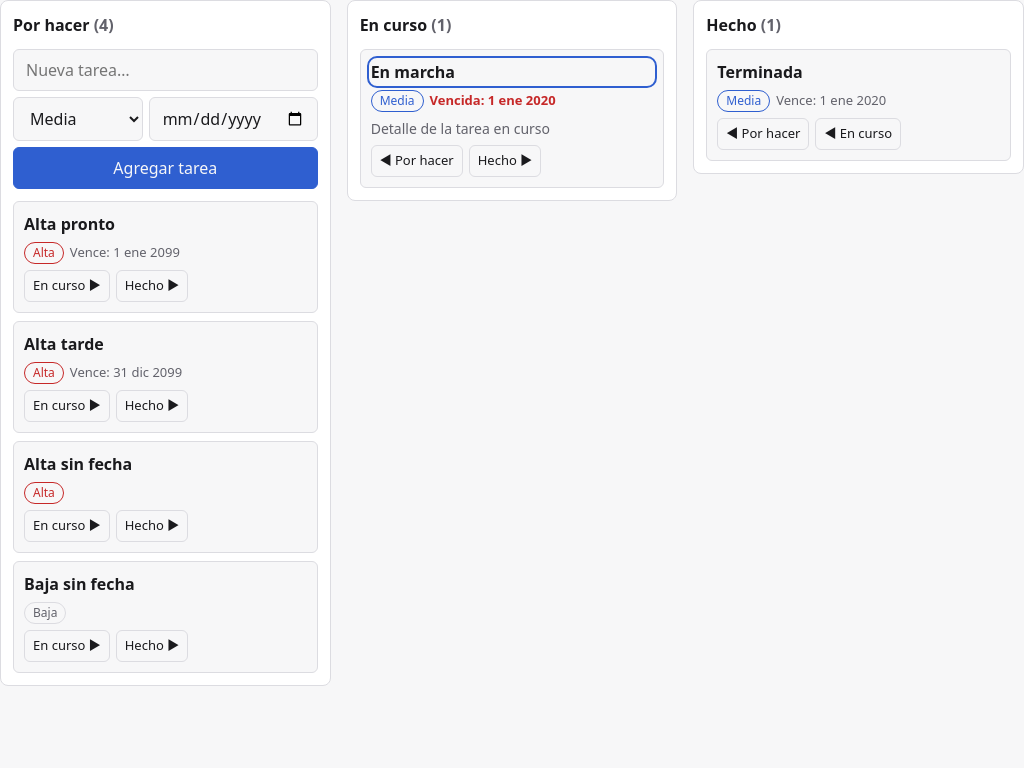
Scenario: TaskBoard editor › returns focus to the card that opened the dialog
Click the button "En marcha": (413, 72) [371,60,653,84]
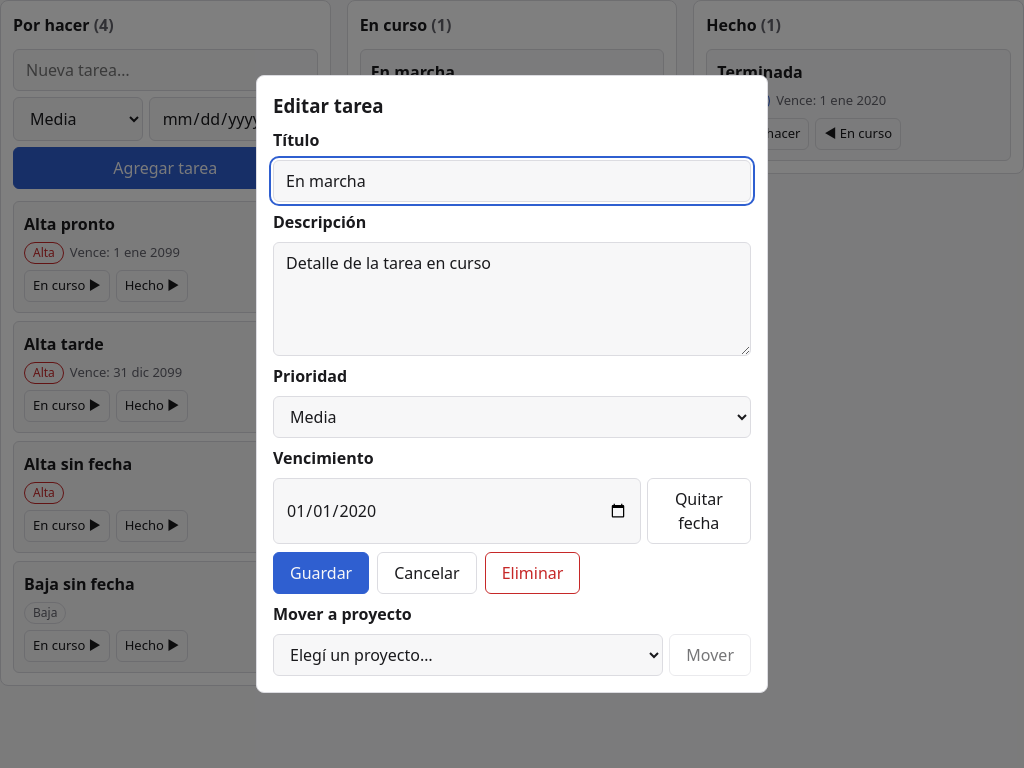
Click the button "Cancelar": (427, 573) [377,552,477,594]
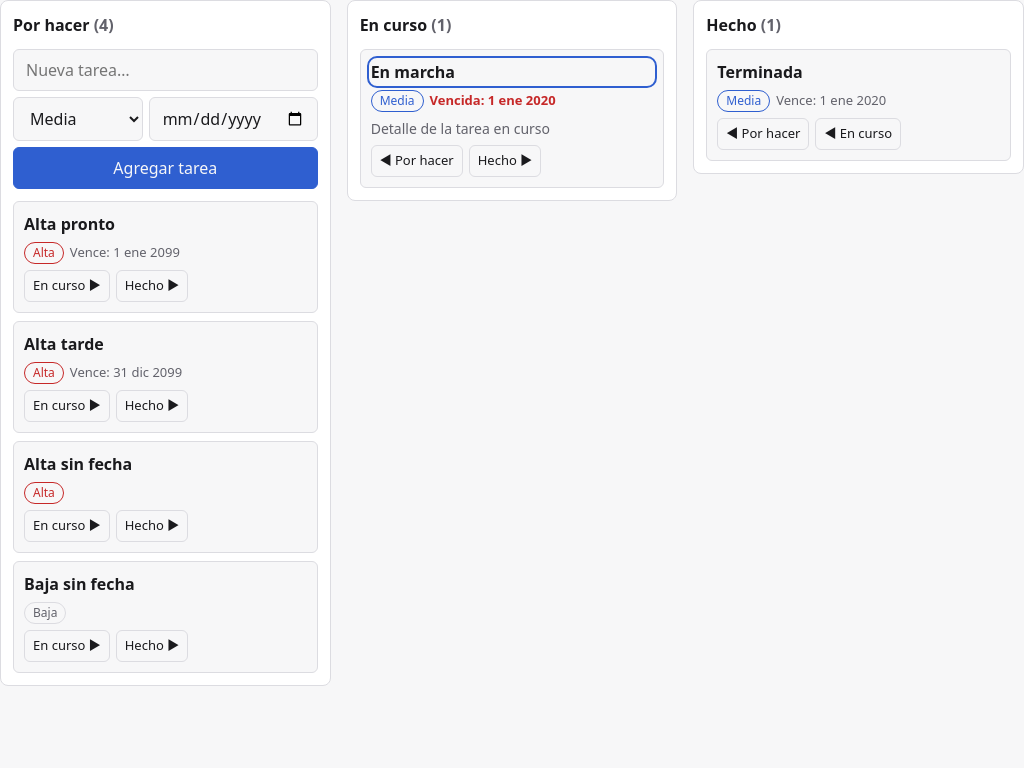
Now the dialog is gone
